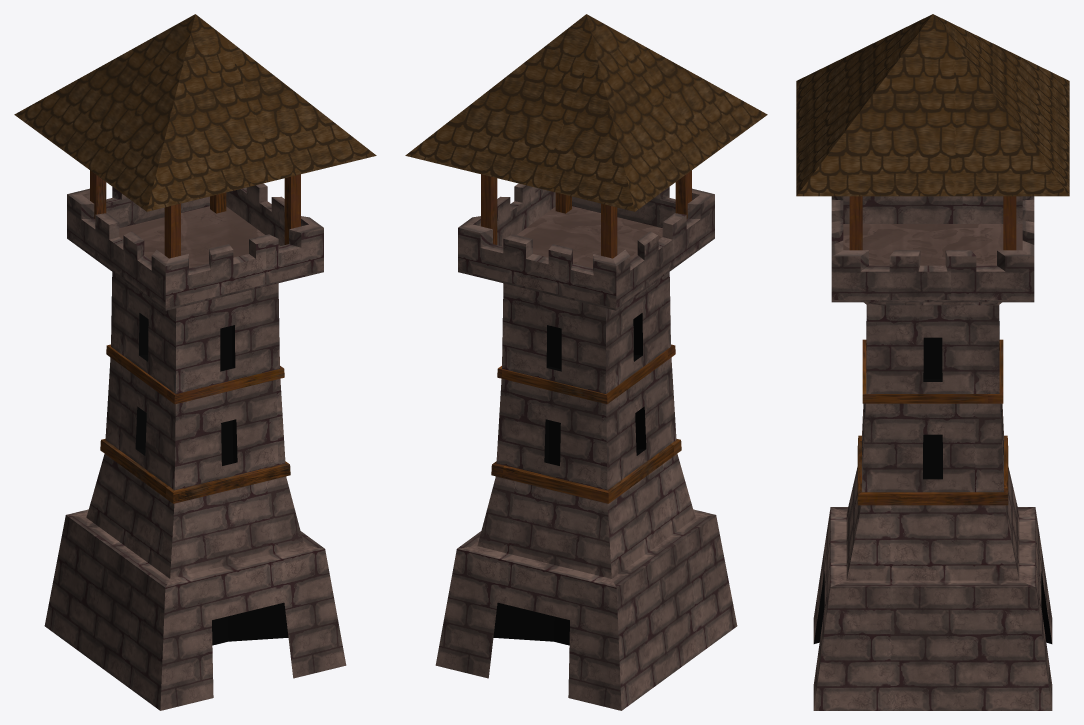
The model's file is StoneTower.fbx.
3 views of the same model, side by side, from view 1: azimuth 30°, elevation 25°; view 2: azimuth 150°, elevation 25°; view 3: azimuth 270°, elevation 25° (orthographic). The views are drawn at different scales.
Visible parts, largest first — view 1: StoneTower; view 2: StoneTower; view 3: StoneTower.
Boxes of the visible parts, x1=… form: StoneTower: x1=14, y1=14, x2=376, y2=710; StoneTower: x1=405, y1=14, x2=767, y2=710; StoneTower: x1=796, y1=14, x2=1069, y2=710.
Bounding box in the file's own units: 2826 × 7419 × 2826.
